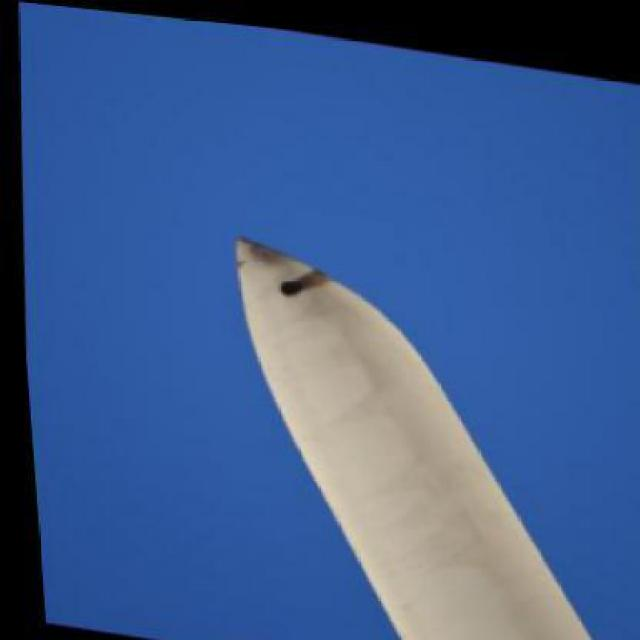Burn Mark: (274, 256, 329, 298)
